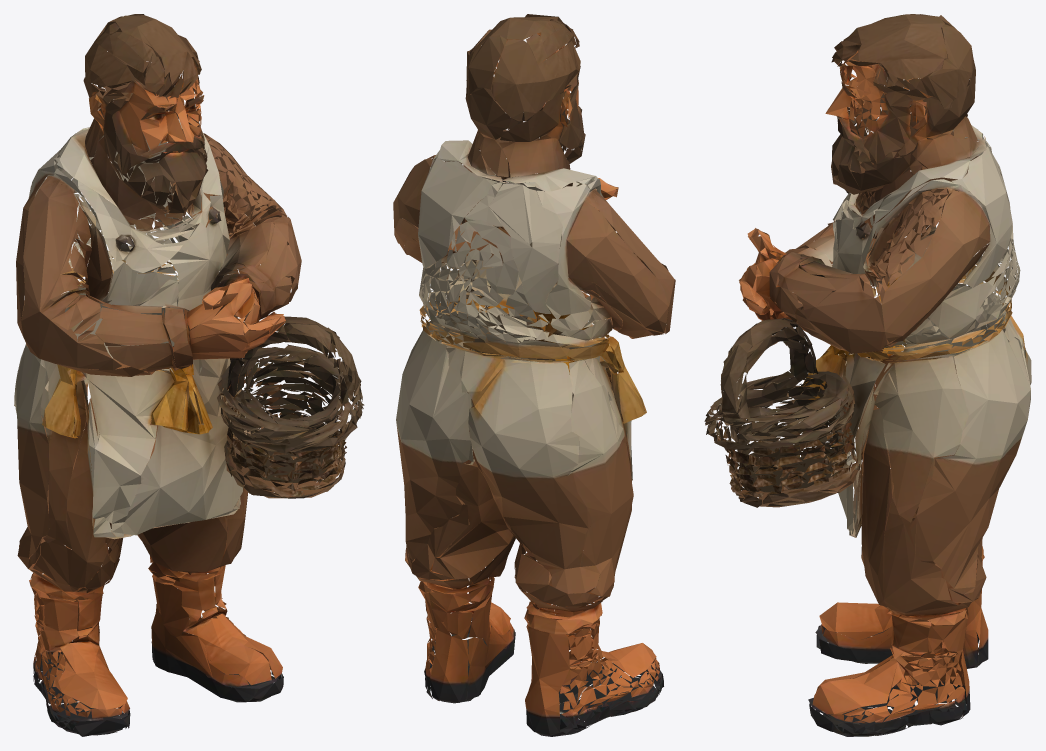
File: merchant.glb
The picture shows the model from 3 angles, left to right: view 1: azimuth 30°, elevation 25°; view 2: azimuth 150°, elevation 25°; view 3: azimuth 270°, elevation 25°; orthographic projection.
Parts seen in each view (by area): view 1: material; view 2: material; view 3: material.
Part boxes in pixels (bbox=[...]): material: bbox=[14, 14, 364, 736]; material: bbox=[393, 14, 675, 736]; material: bbox=[704, 14, 1031, 736].
Bounding box in the file's own units: 0.402 × 0.92 × 0.4069.
1 material, 1 textured.
